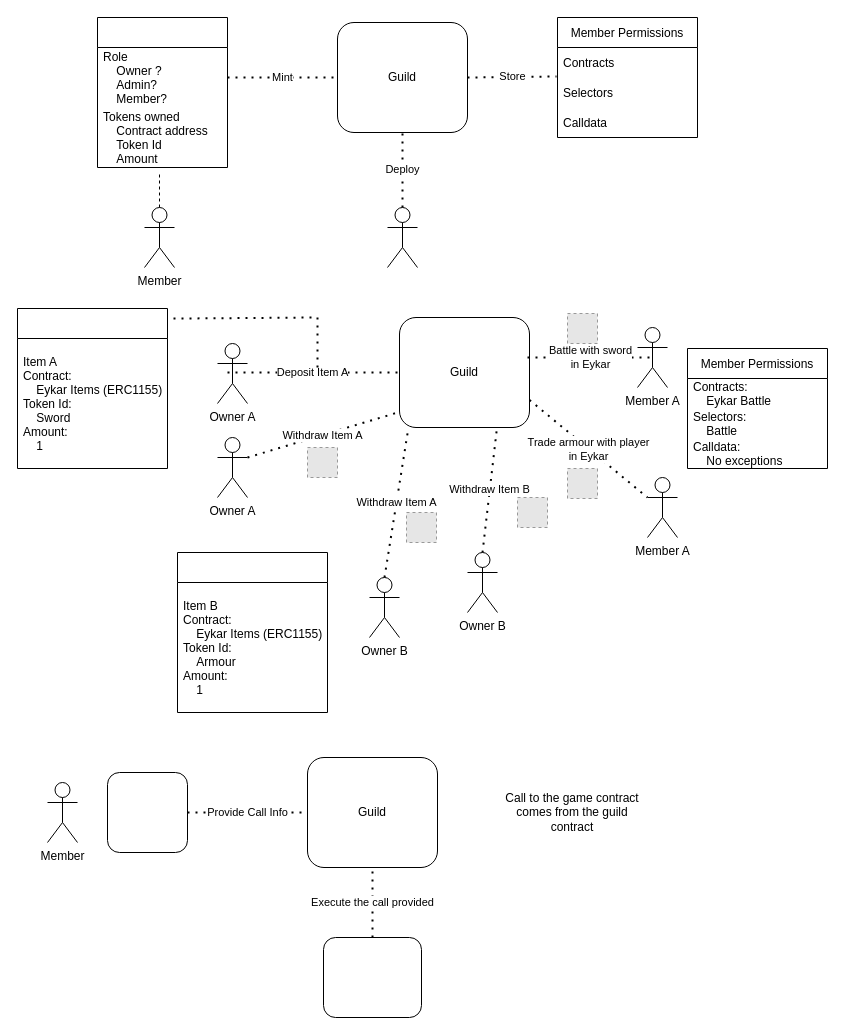
The diagram is 845 pixels wide and 1035 high, and some of its shapes have lost their labels. Grey dashed boxes stand in for pictures. Here are the shapes that lost their labels. From the top down, the box of each, then its label:
(96, 16, 228, 168): Guild Certificate
(386, 206, 418, 268): Master
(16, 308, 168, 468): Guild Cert (Owner A)
(176, 552, 328, 712): Guild Cert (Owner B)
(106, 772, 188, 852): Member Account
(322, 936, 422, 1018): Game Contract
